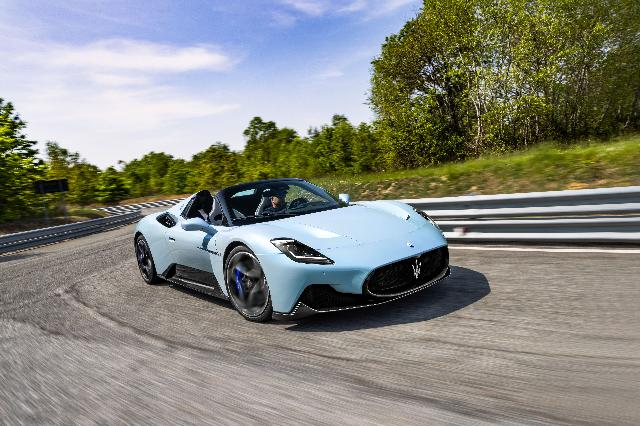maserati: (134, 176, 450, 324)
